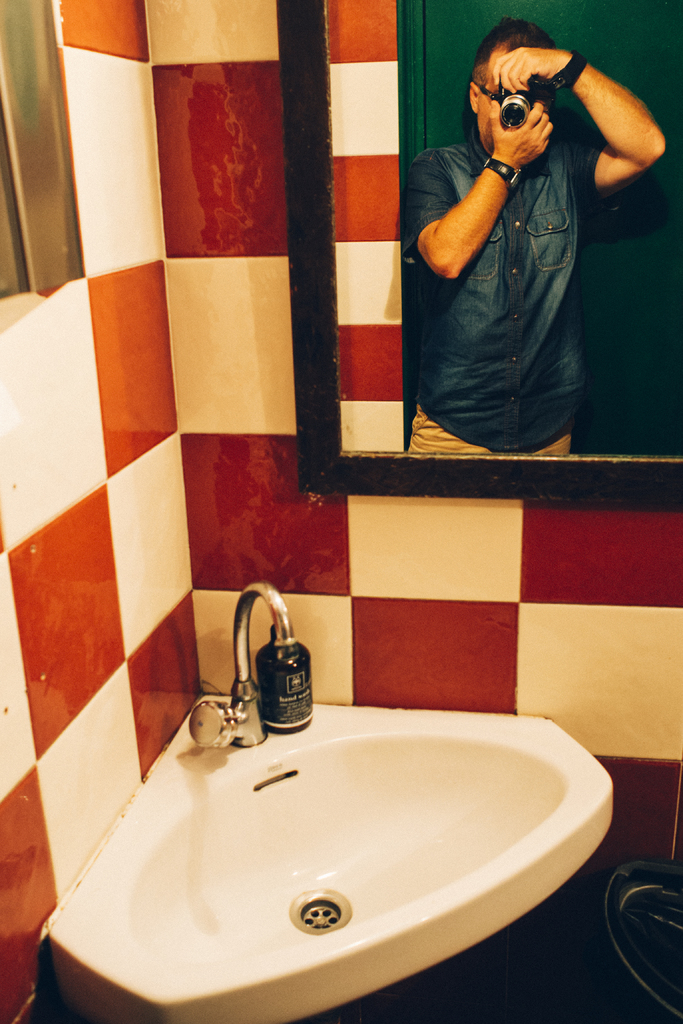tap: (196, 606, 330, 760)
